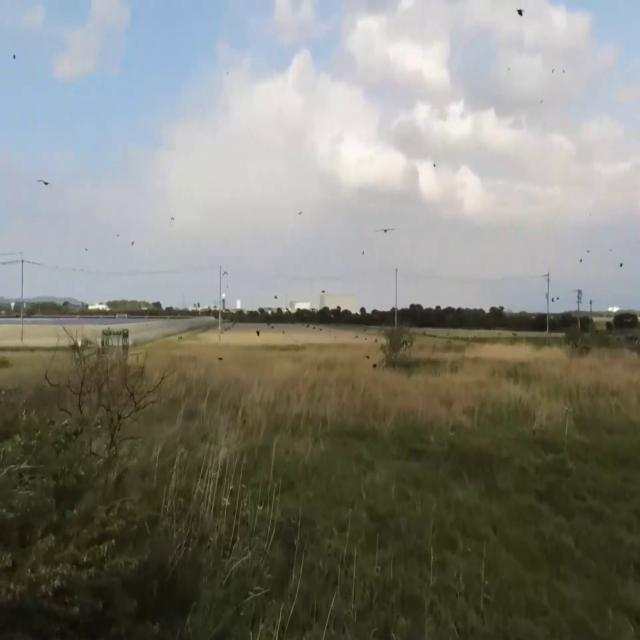bird: (37, 168, 50, 194), (516, 1, 524, 26)
